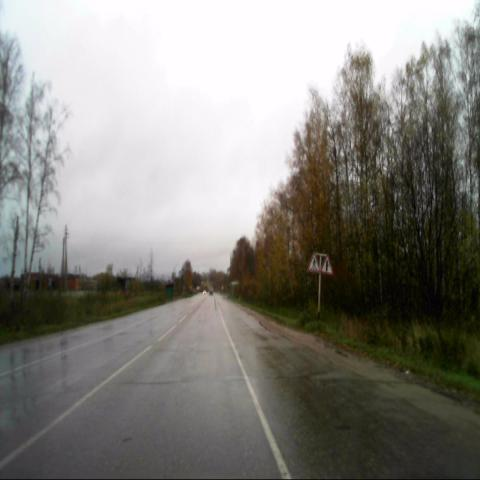2_3_2: (320, 255, 334, 276)
